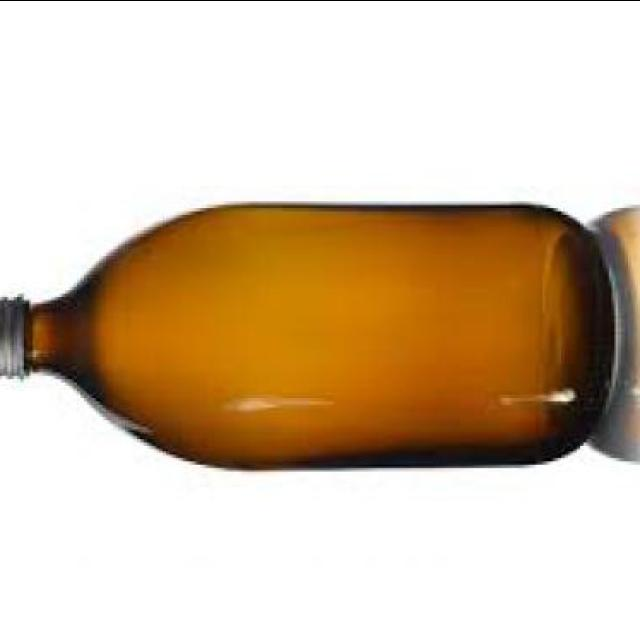kaca: (25, 204, 612, 471)
